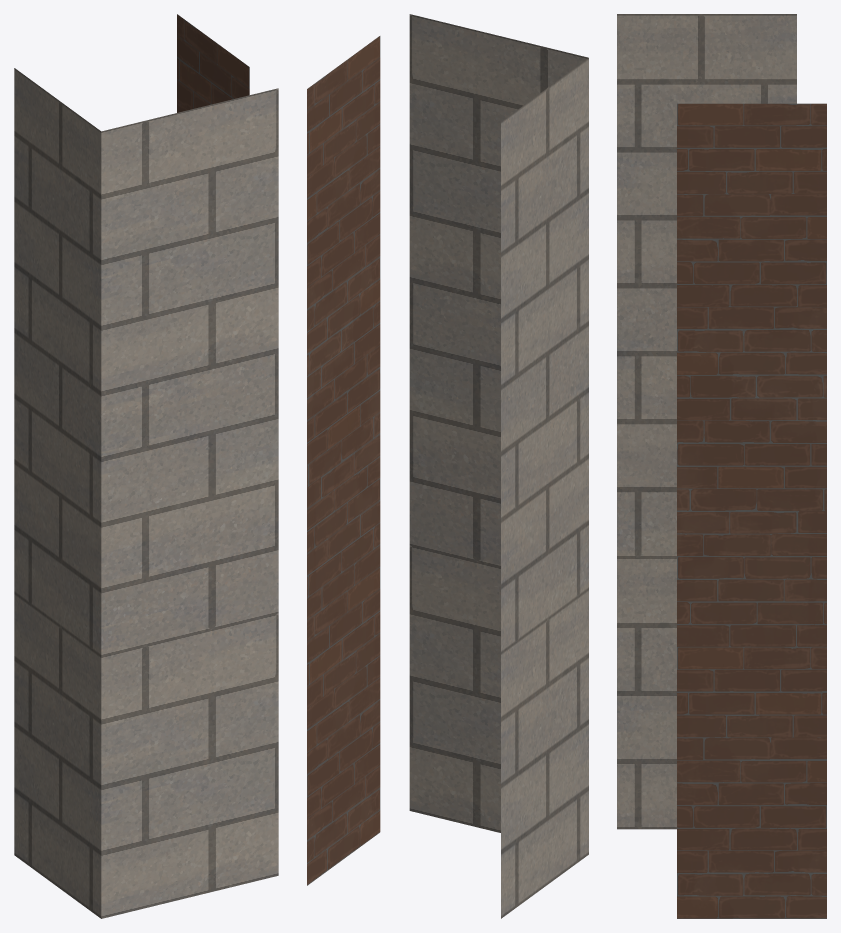
The model's file is Wall_WhiteBrick_90Angle_R.gltf.
3 views of the same model, side by side, from view 1: azimuth 30°, elevation 25°; view 2: azimuth 150°, elevation 25°; view 3: azimuth 270°, elevation 25° (orthographic). The views are drawn at different scales.
Visible parts, largest first — view 1: Wall_WhiteBrick_90Angle_R; view 2: Wall_WhiteBrick_90Angle_R; view 3: Wall_WhiteBrick_90Angle_R.
Part boxes in pixels (box(x1,y1,x2,y2)): Wall_WhiteBrick_90Angle_R: box(14, 14, 278, 918); Wall_WhiteBrick_90Angle_R: box(307, 14, 588, 918); Wall_WhiteBrick_90Angle_R: box(617, 14, 826, 918).
Size of the model in its own units: 0.7062 by 3 by 0.7.
Materials: 2 (2 with a texture image).
